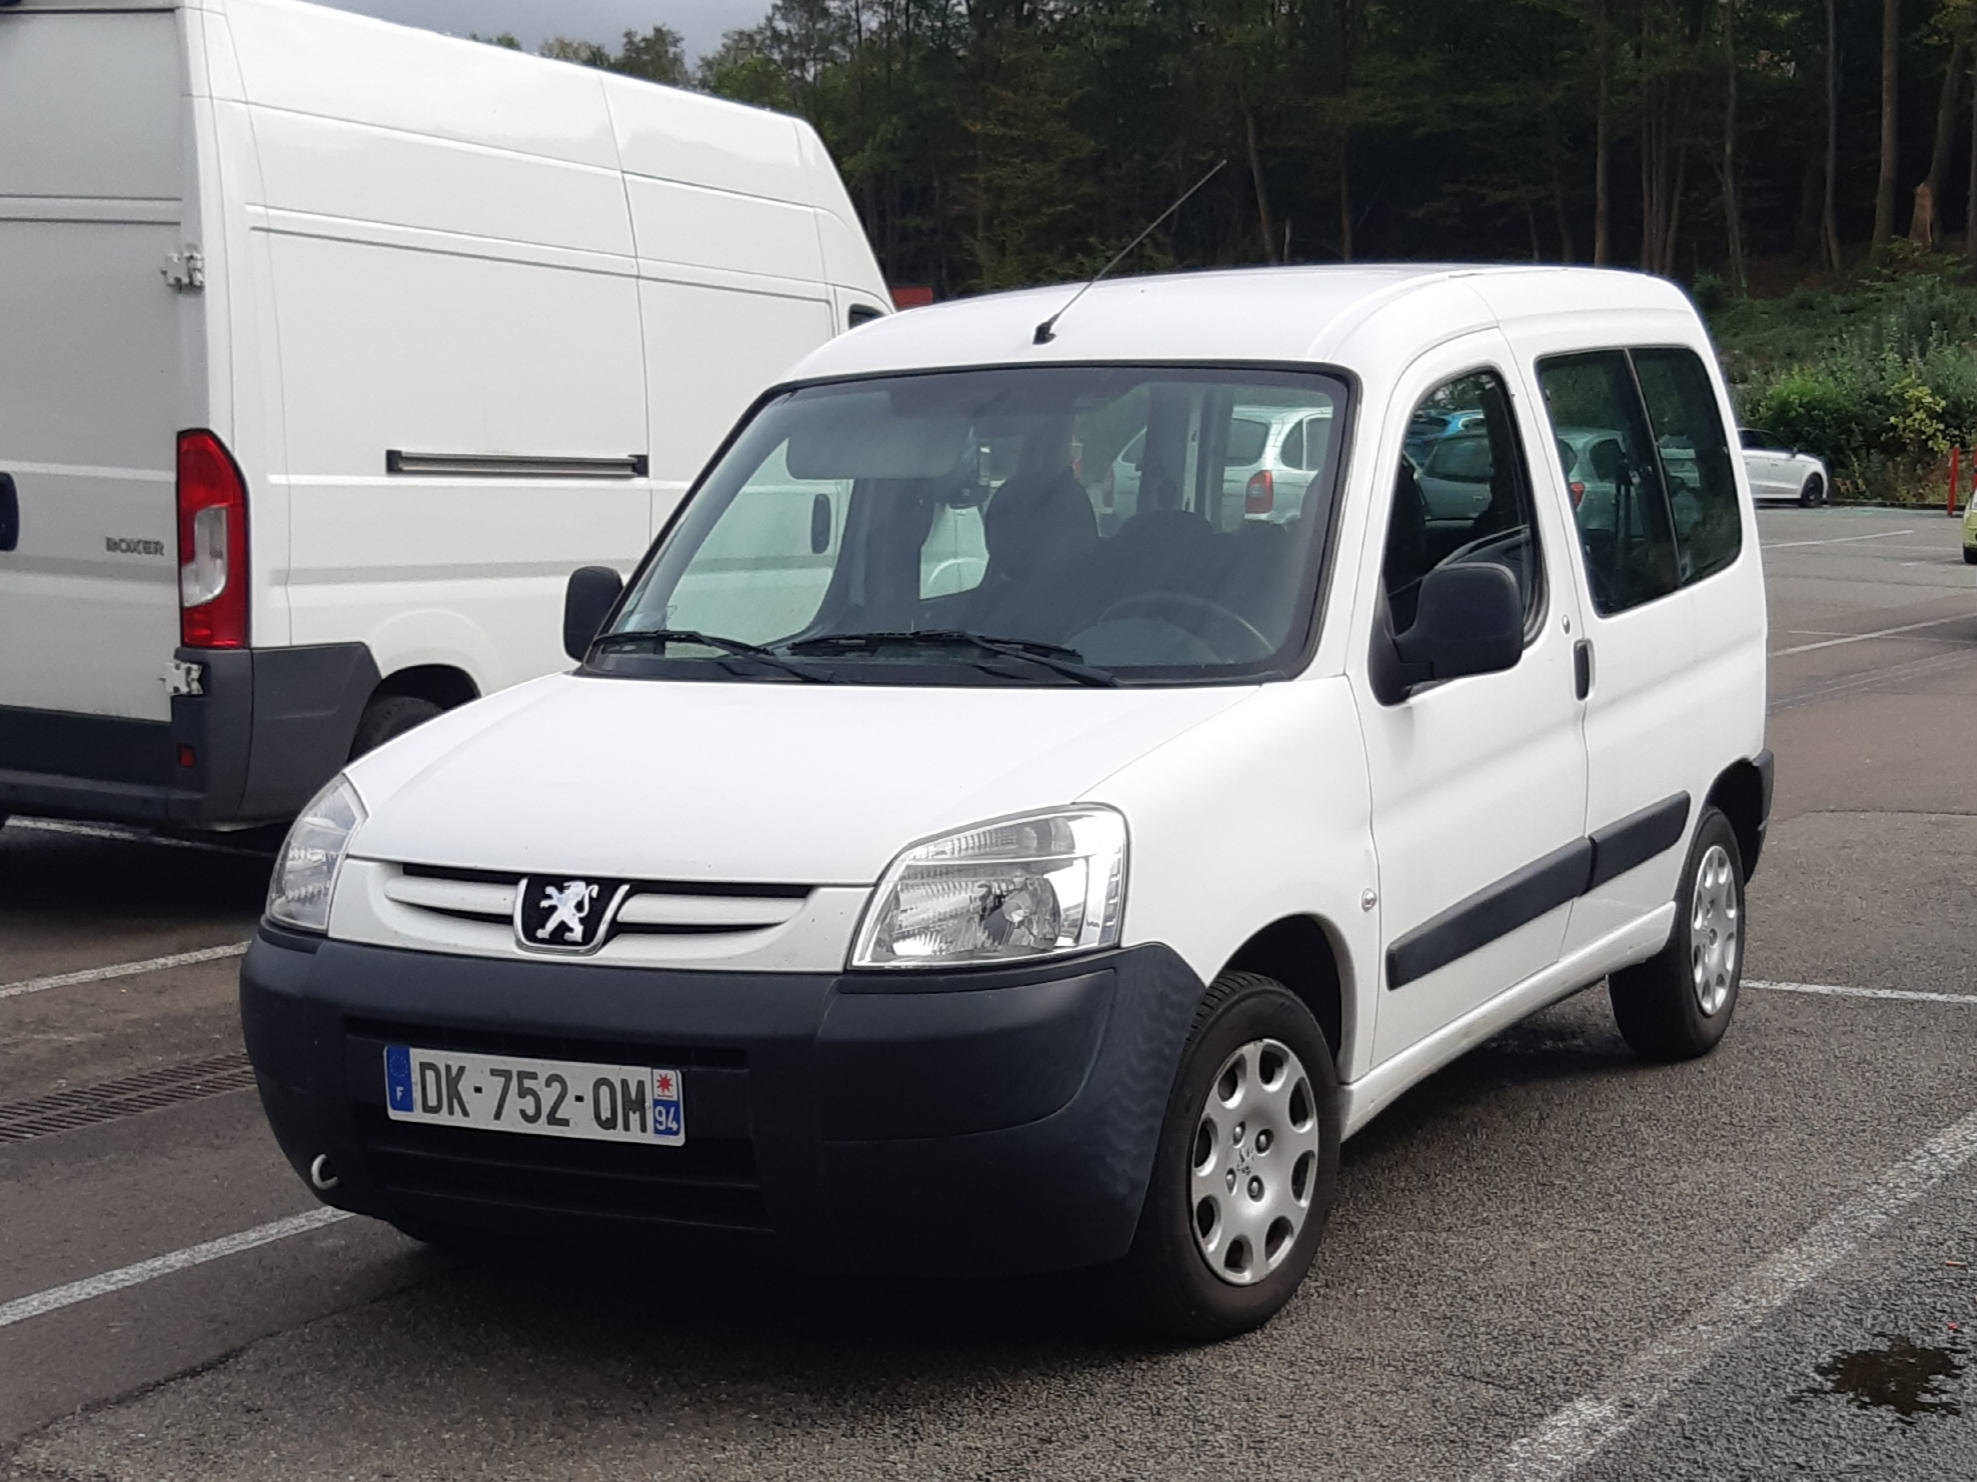licence plate: (375, 1038, 693, 1150)
